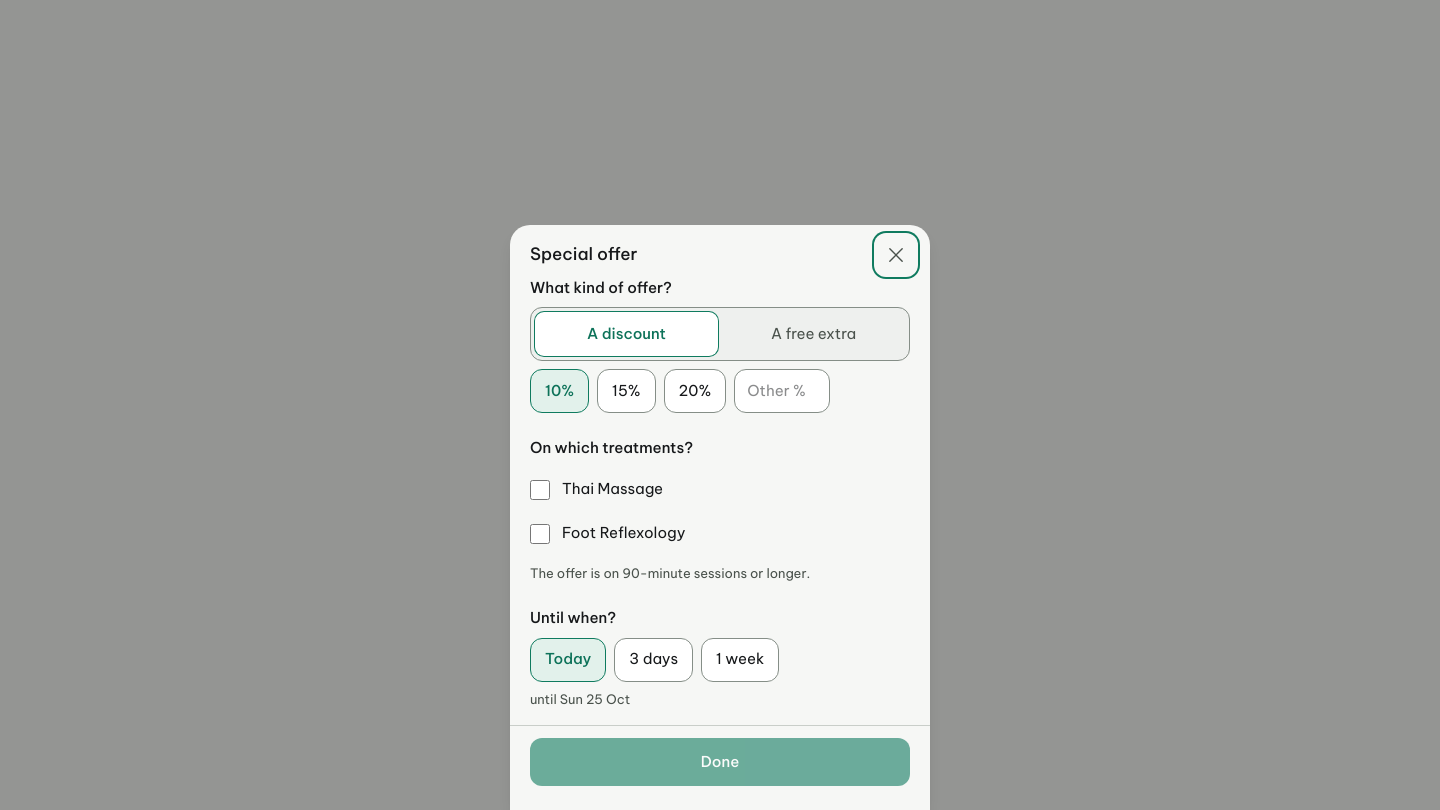
Test: the offer sheet › "Other %" keeps digits only and allows 1 to 90
The width and height of the screenshot is (1440, 810).
Click the checkbox labelled "Thai Massage" at (540,490), box [530, 480, 550, 500]
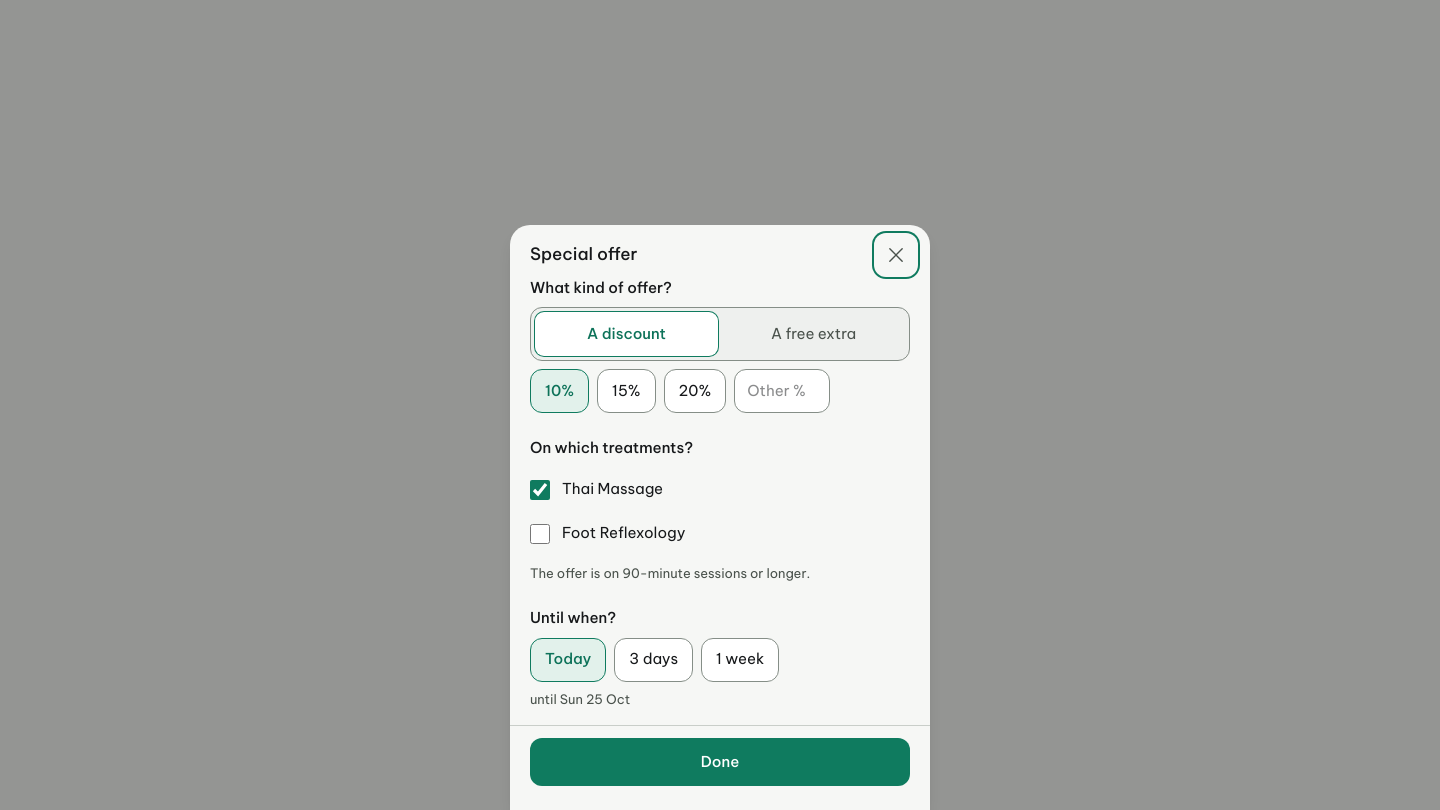
Type "100k" into the field labelled "Other %" at (782,391), box [734, 369, 830, 413]
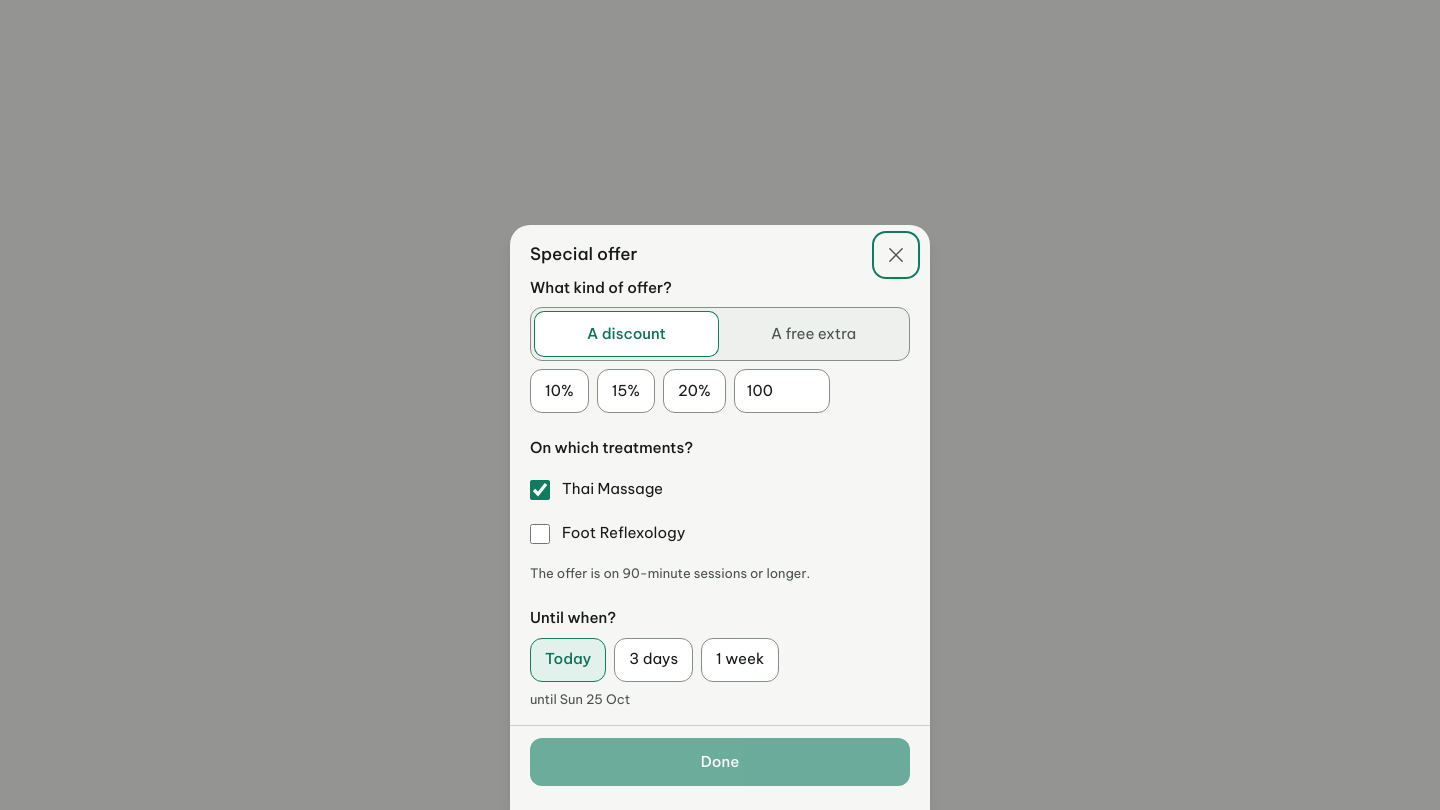
Check: the field named "Other %" holds "100"
Check: the button "Done" is disabled, box [530, 738, 910, 786]
Replace the text in the field named "Other %" with "15" at (782,391), box [734, 369, 830, 413]
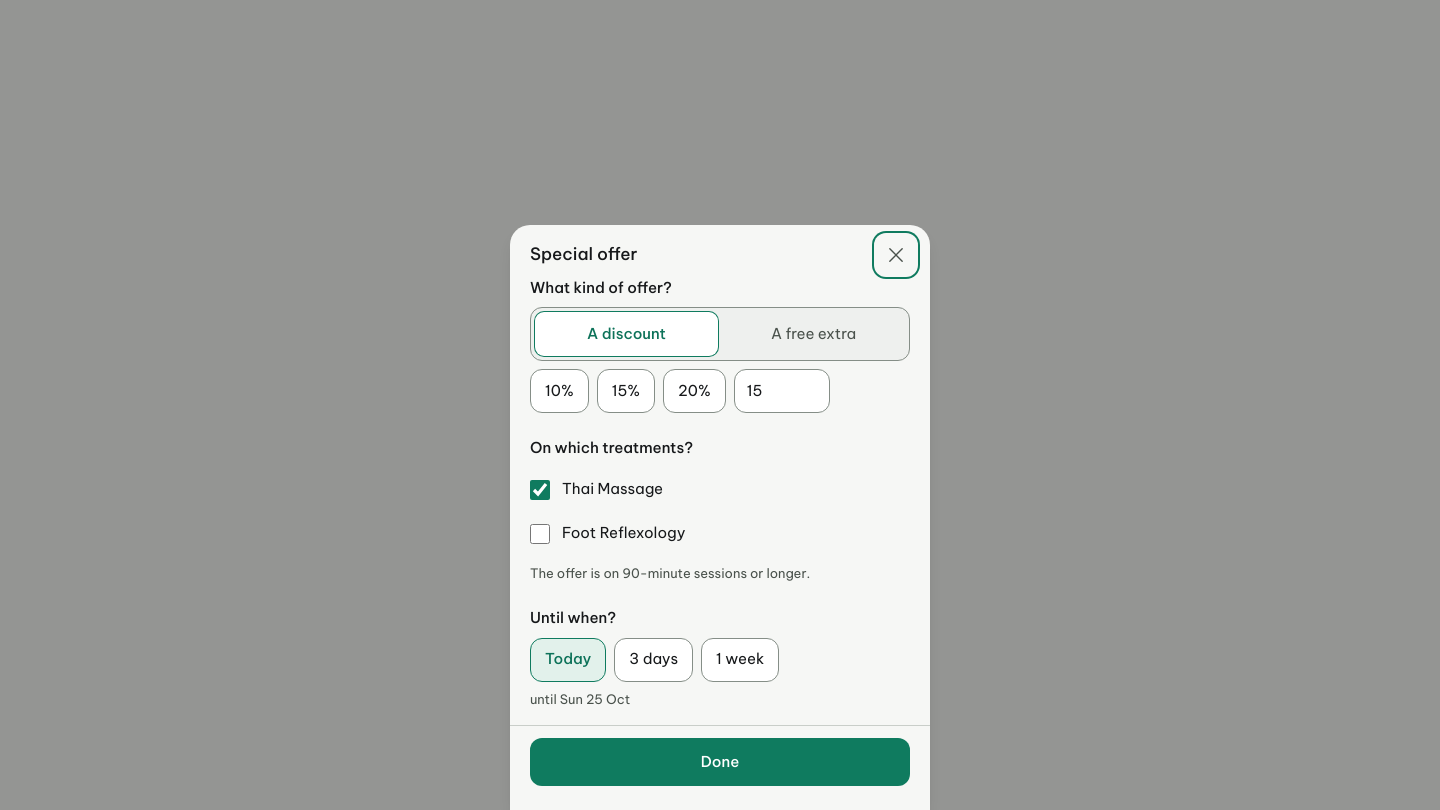
Check: the button "Done" is enabled, box [530, 738, 910, 786]
